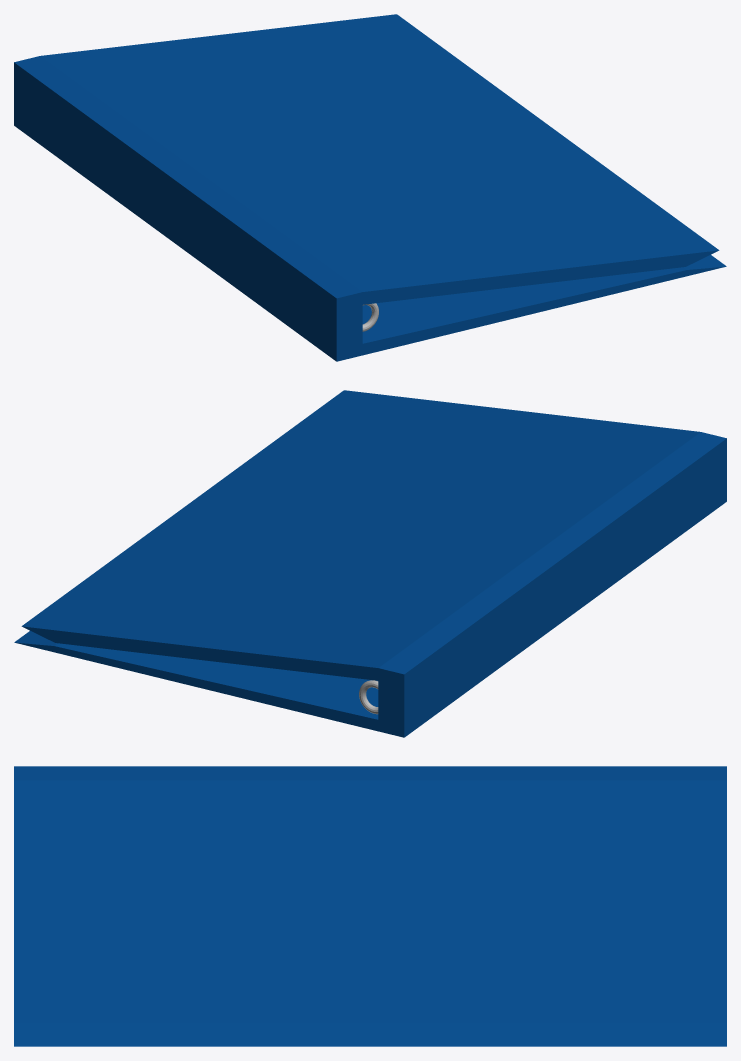
The model's file is 文件夾.fbx.
3 renders of one model, top to bottom at view 1: azimuth 30°, elevation 25°; view 2: azimuth 150°, elevation 25°; view 3: azimuth 270°, elevation 25°, orthographic. The views are drawn at different scales.
Parts seen in each view (by area): view 1: 立方体; view 2: 立方体; view 3: 立方体.
Part boxes in pixels (bbox=[...]): 立方体: bbox=[14, 14, 726, 361]; 立方体: bbox=[14, 390, 726, 737]; 立方体: bbox=[14, 766, 726, 1046].
Size of the model in its own units: 200 by 31.01 by 286.
Materials: 2 (2 with a texture image).
